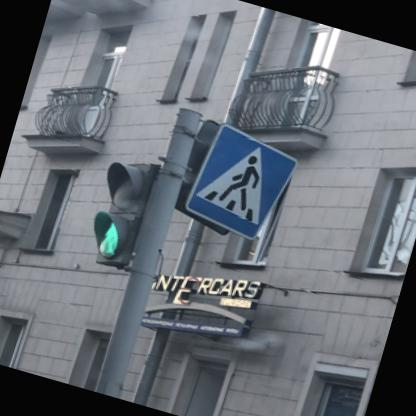crosswalk: (180, 118, 304, 246)
trafficlight: (81, 150, 162, 272)
